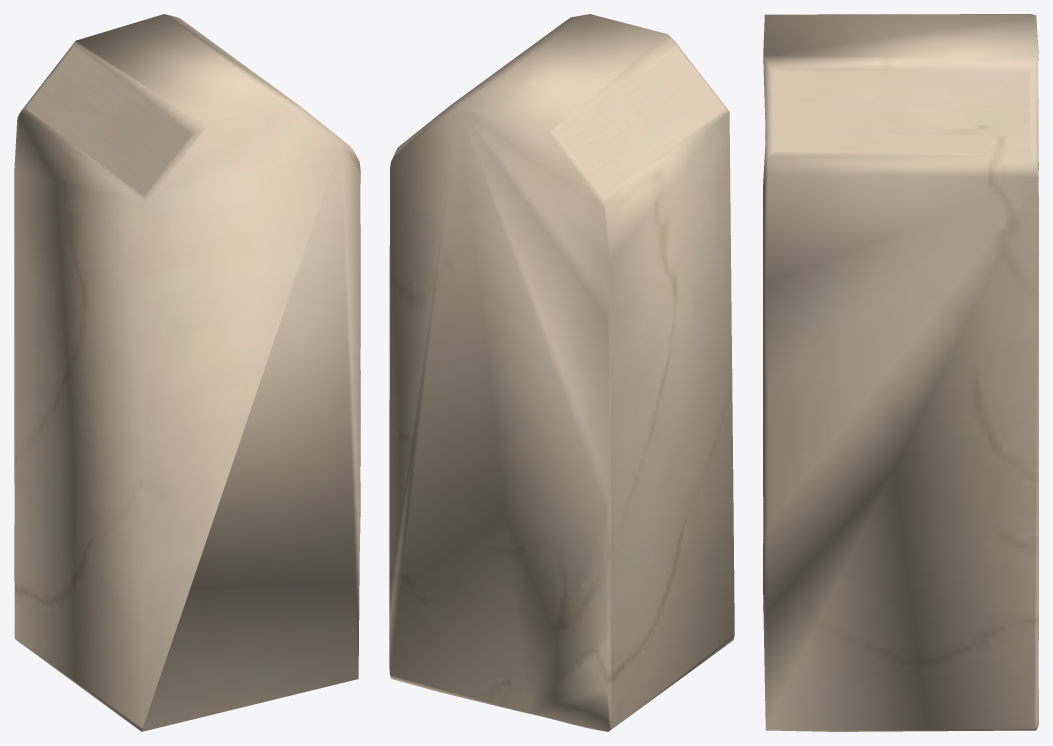
File: pesec_bily.glb
The picture shows the model from 3 angles, left to right: view 1: azimuth 30°, elevation 25°; view 2: azimuth 150°, elevation 25°; view 3: azimuth 270°, elevation 25°; orthographic projection. The views are drawn at different scales.
Parts seen in each view (by area): view 1: pesec_bily; view 2: pesec_bily; view 3: pesec_bily.
Boxes of the visible parts, x1=… form: pesec_bily: x1=14, y1=14, x2=360, y2=731; pesec_bily: x1=389, y1=14, x2=734, y2=731; pesec_bily: x1=763, y1=14, x2=1038, y2=731.
Bounding box in the file's own units: 0.0239 × 0.0609 × 0.0238.
1 material, 1 textured.
